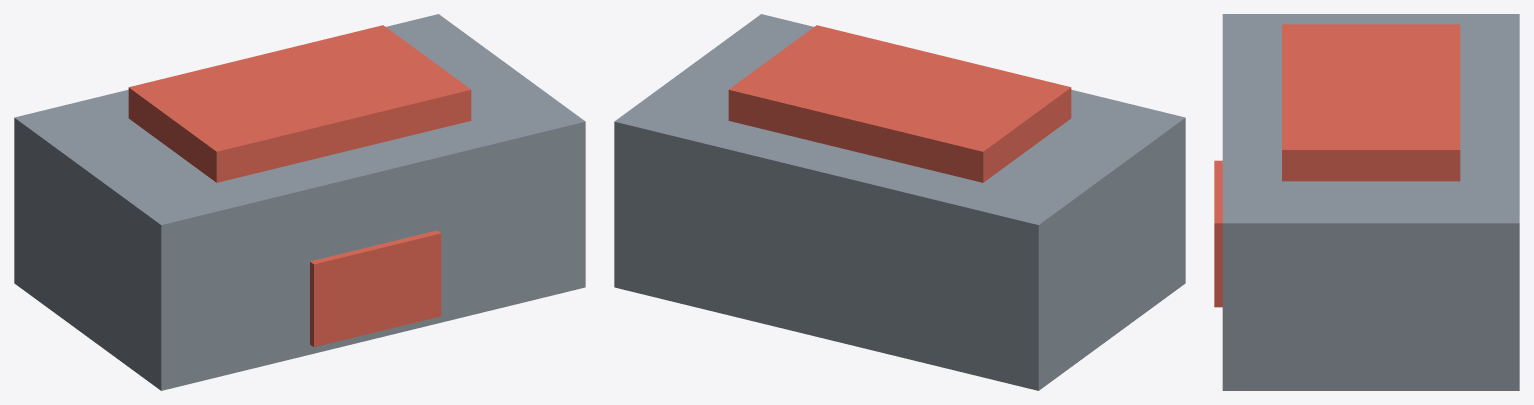
Rendered from SM_Soviet_SU_BogatyrOreCarrier_Blockout.fbx.
The picture shows the model from 3 angles, left to right: view 1: azimuth 30°, elevation 25°; view 2: azimuth 150°, elevation 25°; view 3: azimuth 270°, elevation 25°; orthographic projection.
Parts seen in each view (by area): view 1: MainBuilding, RoofStructure, EntranceGate; view 2: MainBuilding, RoofStructure; view 3: MainBuilding, RoofStructure, EntranceGate.
Boxes of the visible parts, left/top/right/bottom form: MainBuilding: left=14, top=14, right=585, bottom=390; RoofStructure: left=128, top=25, right=471, bottom=182; EntranceGate: left=310, top=230, right=441, bottom=347; MainBuilding: left=614, top=14, right=1185, bottom=390; RoofStructure: left=728, top=25, right=1071, bottom=182; MainBuilding: left=1222, top=14, right=1519, bottom=390; RoofStructure: left=1282, top=24, right=1460, bottom=181; EntranceGate: left=1214, top=160, right=1222, bottom=307.
Bounding box in the file's own units: 600 × 266 × 370.
